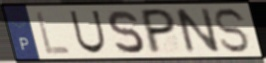L: (34, 10, 73, 57)
N: (172, 6, 222, 56)
P: (140, 8, 177, 56)
S: (214, 6, 253, 55), (106, 9, 146, 56)
U: (67, 9, 108, 56)
